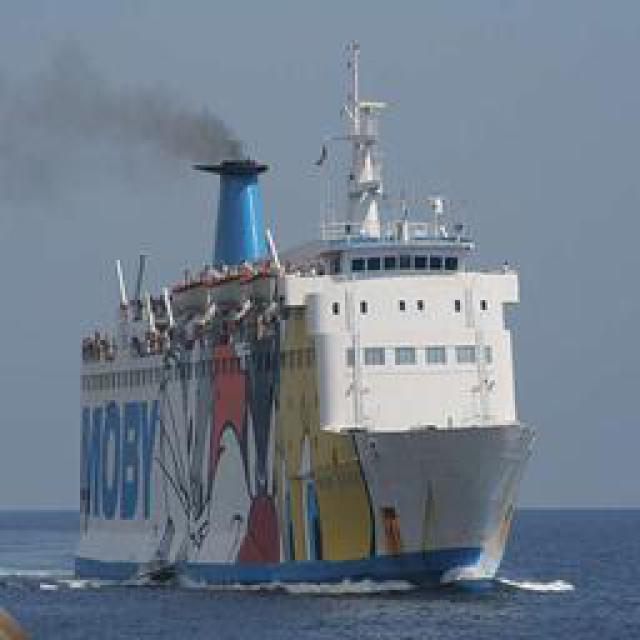Ship: (200, 31, 543, 604)
